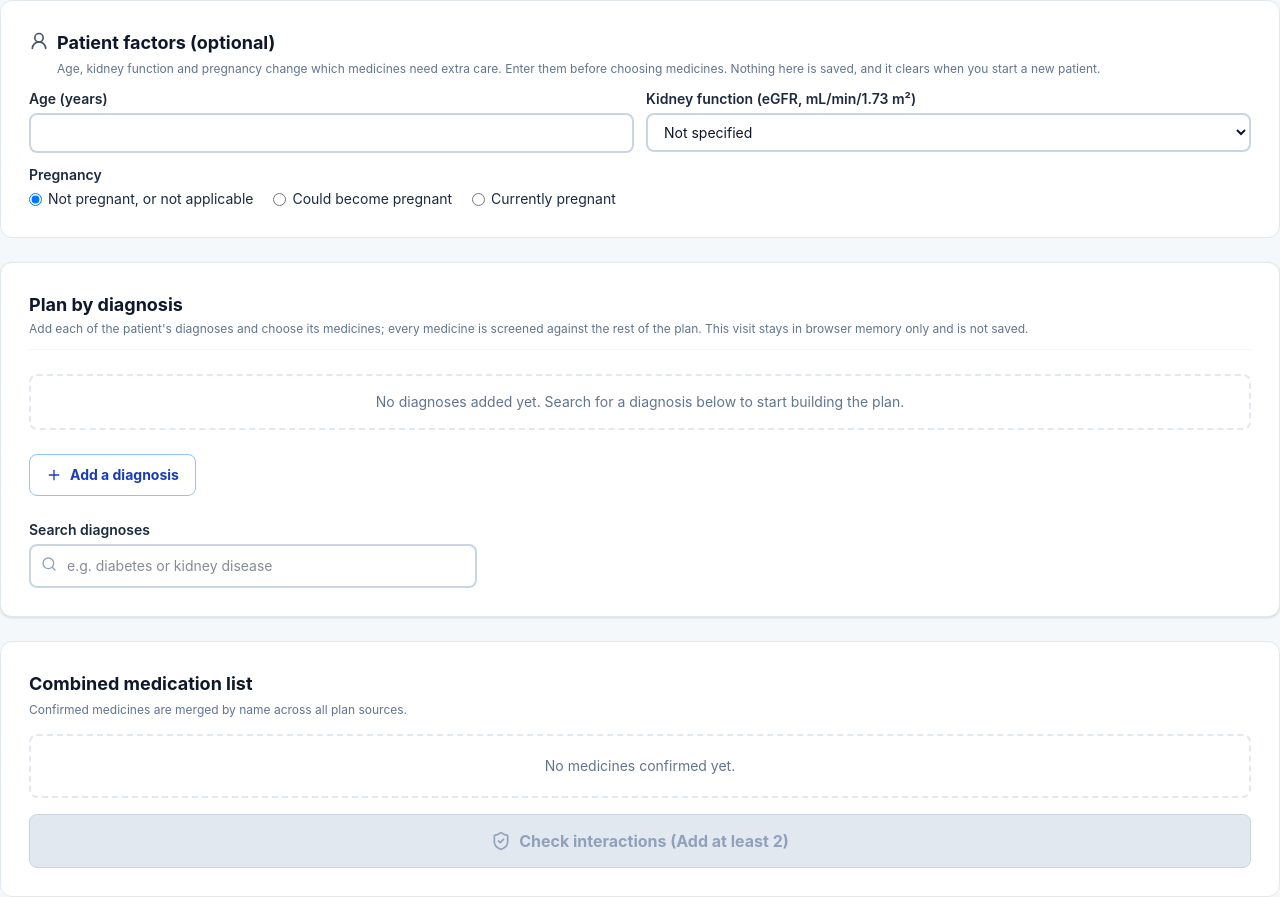
Test case: specialty filter and diagnosis notes › shows the diagnosis note and the route note above its medicines
This screenshot has width=1280, height=897.
Focus the dropdown labelled "Search diagnoses" at (253, 566), box [29,544,477,588]
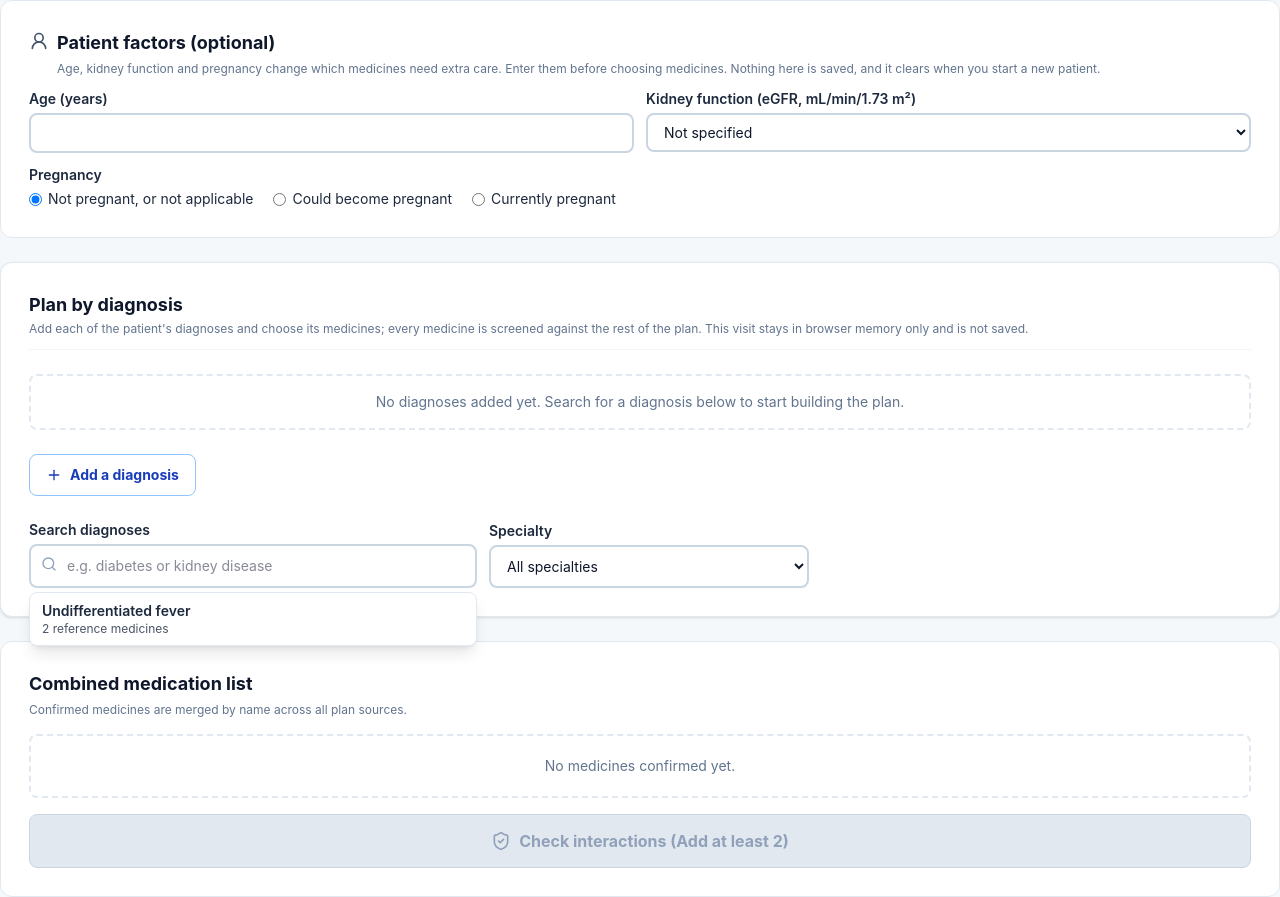
Click the option "Undifferentiated fever 2 reference medicines" at (116, 610), box [30,593,476,645]
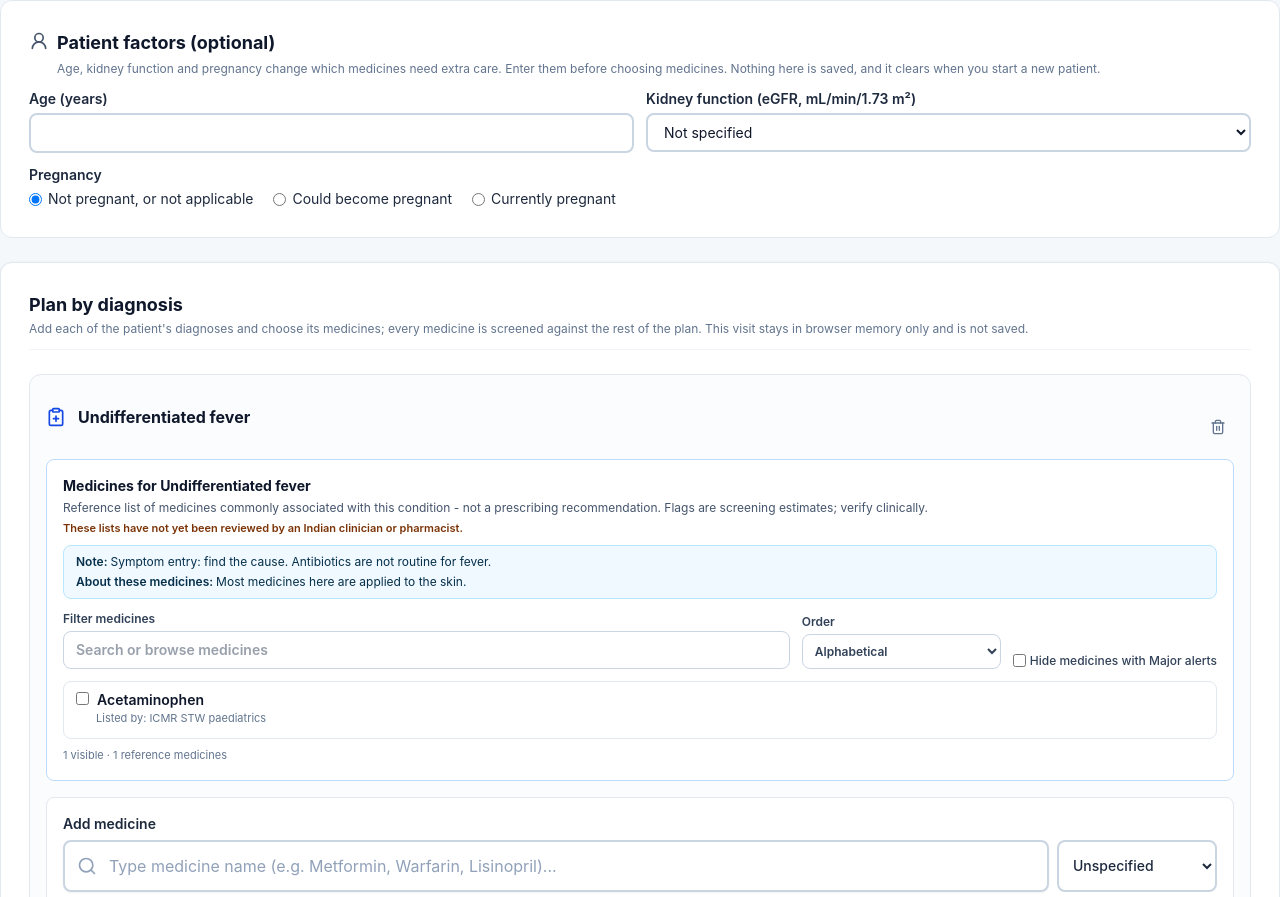
Expected: the text "Antibiotics are not routine for fever" is shown, [110,554,491,568]
Expected: the text "Most medicines here are applied to the skin" is shown, [216,574,466,588]
